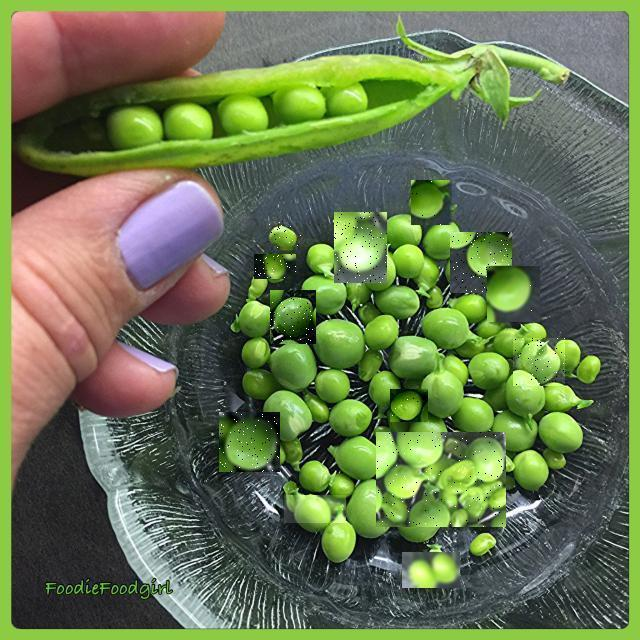Peas: (377, 432, 507, 527), (450, 232, 512, 293), (334, 212, 387, 283), (219, 412, 280, 472), (487, 266, 540, 322), (514, 338, 568, 386), (270, 290, 316, 344), (402, 552, 460, 588), (412, 180, 454, 225), (284, 495, 346, 523), (390, 389, 428, 422), (254, 254, 296, 279), (266, 222, 303, 250)
